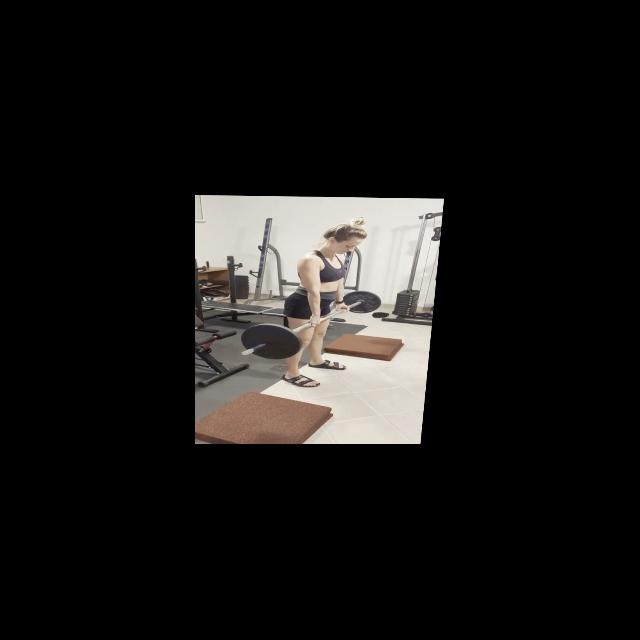barbell: (238, 321, 308, 361)
